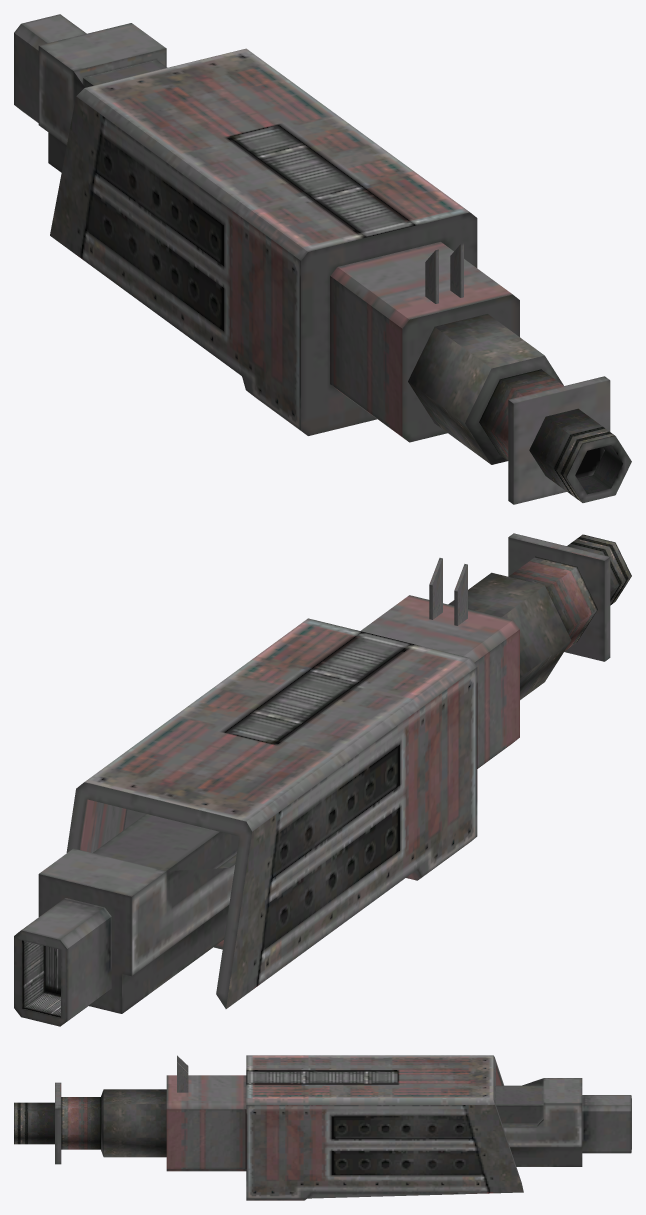
File: eqp_comp_turbo_laser.fbx
3 views of the same model, one above another, from view 1: azimuth 30°, elevation 25°; view 2: azimuth 150°, elevation 25°; view 3: azimuth 270°, elevation 25° (orthographic). The views are drawn at different scales.
Visible parts, largest first — view 1: mesh_node; view 2: mesh_node; view 3: mesh_node.
Boxes of the visible parts, x1,y1,x2,y2 form: mesh_node: (14,14,631,504); mesh_node: (14,533,631,1026); mesh_node: (14,1055,631,1200).
Size of the model in its own units: 0.1758 by 0.206 by 0.9662.
